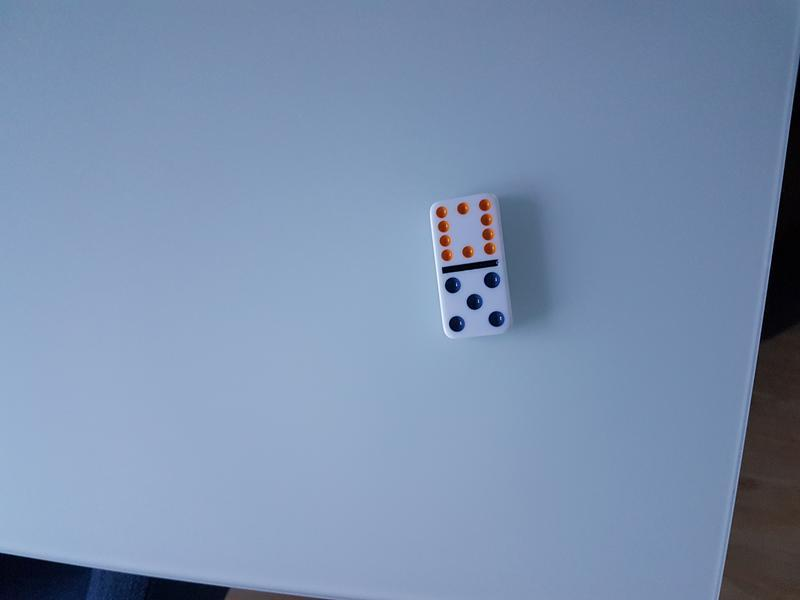Domino: (427, 190, 516, 342)
